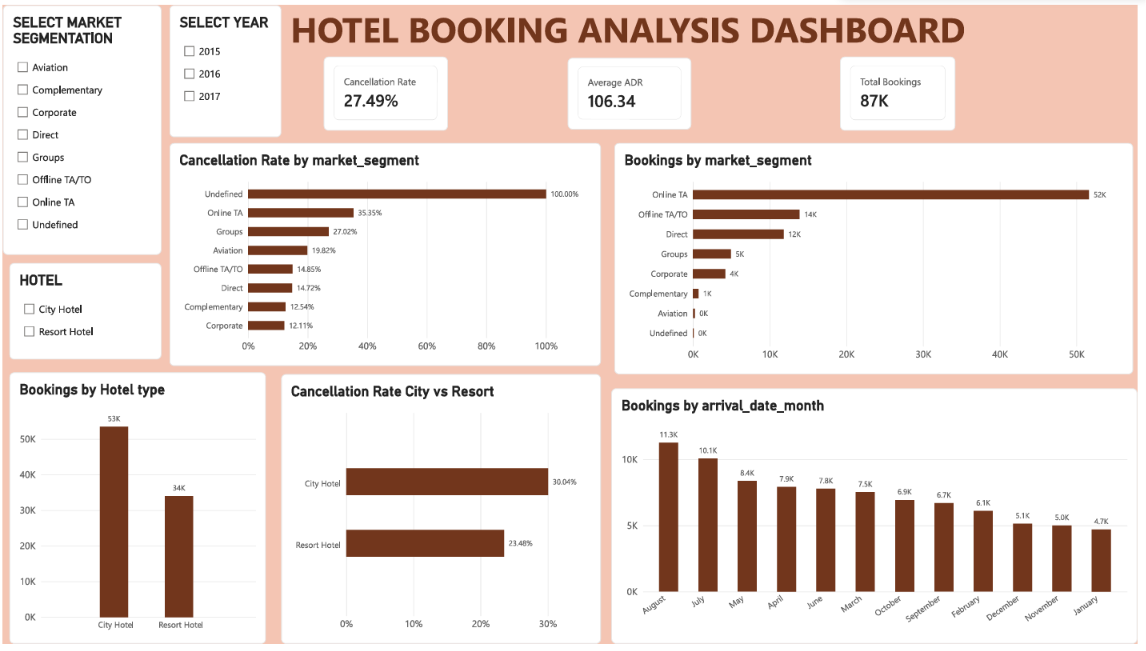

Layout of this report page (visuals, bound fields, positions):
{"tool":"powerbi","page":{"name":"Page 1","canvas":[1920,1080],"ordinal":0},"visuals":[{"type":"cardVisual","fields":{"Data":["hotel_bookings_cleaned.Total Bookings"]},"box":[1417,86.9,195.4,124.9],"z":0},{"type":"cardVisual","fields":{"Data":["hotel_bookings_cleaned.Cancellation Rate"]},"box":[542.9,86.9,209.9,124.9],"z":1000},{"type":"cardVisual","fields":{"Data":["hotel_bookings_cleaned.Average ADR"]},"box":[955.5,88.7,209.9,121.2],"z":2000},{"type":"clusteredColumnChart","title":"Bookings by Hotel type","fields":{"Category":["hotel_bookings_cleaned.hotel"],"Y":["hotel_bookings_cleaned.Total Bookings"]},"box":[10.9,620.7,434.3,459.7],"z":3000},{"type":"clusteredBarChart","title":"Cancellation Rate City vs Resort","fields":{"Category":["hotel_bookings_cleaned.hotel"],"Y":["hotel_bookings_cleaned.Cancellation Rate"]},"box":[470.5,624.3,541.1,456],"z":4000},{"type":"clusteredColumnChart","title":"Bookings by arrival_date_month","fields":{"Category":["hotel_bookings_cleaned.arrival_date_month"],"Y":["hotel_bookings_cleaned.Total Bookings"]},"box":[1029.7,647.9,890.4,432.5],"z":5000},{"type":"clusteredBarChart","title":"Bookings by market_segment","fields":{"Category":["hotel_bookings_cleaned.market_segment"],"Y":["hotel_bookings_cleaned.Total Bookings"]},"box":[1035.1,233.4,877.7,390.9],"z":6000},{"type":"clusteredBarChart","fields":{"Category":["hotel_bookings_cleaned.market_segment"],"Y":["hotel_bookings_cleaned.Cancellation Rate"]},"box":[282.3,233.4,729.3,376.4],"z":7000},{"type":"slicer","title":"SELECT YEAR","fields":{"Values":["hotel_bookings_cleaned.arrival_date_year"]},"box":[282.3,0,188.2,222.6],"z":8000},{"type":"slicer","title":"HOTEL","fields":{"Values":["hotel_bookings_cleaned.hotel"]},"box":[10.9,436.1,257,162.9],"z":9000},{"type":"slicer","title":"SELECT MARKET SEGMENTATION","fields":{"Values":["hotel_bookings_cleaned.market_segment"]},"box":[0,0,267.8,421.7],"z":10000},{"type":"textbox","box":[486.8,0,1145.5,162.9],"z":11000}]}

Visuals, with their boxes in screenshot pixels (x1, y1, x2, y2), scaled from the page's 1920x1080 canvas onto the 1146x651 screenshot:
cardVisual - hotel_bookings_cleaned.Total Bookings: (left=846, top=52, right=962, bottom=128)
cardVisual - hotel_bookings_cleaned.Cancellation Rate: (left=324, top=52, right=449, bottom=128)
cardVisual - hotel_bookings_cleaned.Average ADR: (left=570, top=53, right=696, bottom=127)
"Bookings by Hotel type" clusteredColumnChart: (left=7, top=374, right=266, bottom=650)
"Cancellation Rate City vs Resort" clusteredBarChart: (left=281, top=376, right=604, bottom=650)
"Bookings by arrival_date_month" clusteredColumnChart: (left=615, top=391, right=1145, bottom=650)
"Bookings by market_segment" clusteredBarChart: (left=618, top=141, right=1142, bottom=376)
clusteredBarChart - hotel_bookings_cleaned.market_segment x hotel_bookings_cleaned.Cancellation Rate: (left=168, top=141, right=604, bottom=368)
"SELECT YEAR" slicer: (left=168, top=0, right=281, bottom=134)
"HOTEL" slicer: (left=7, top=263, right=160, bottom=361)
"SELECT MARKET SEGMENTATION" slicer: (left=0, top=0, right=160, bottom=254)
textbox: (left=291, top=0, right=974, bottom=98)
